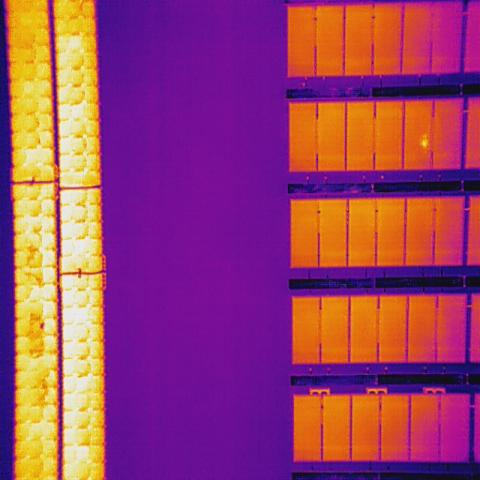fault: (420, 132, 430, 152)
